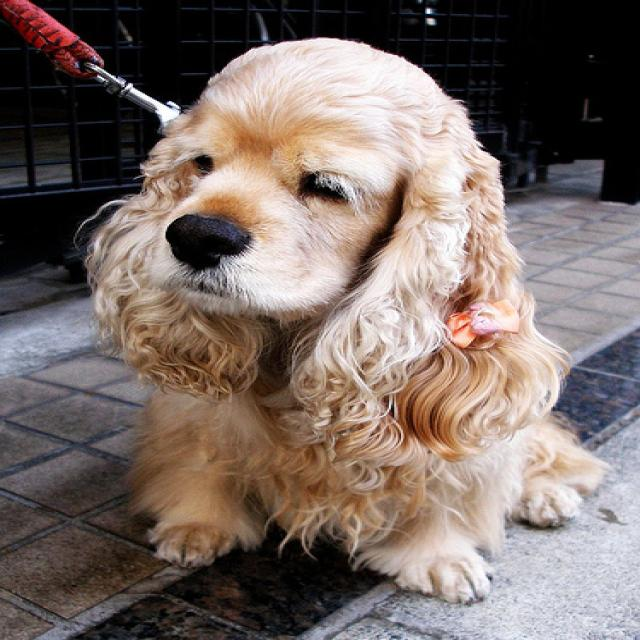dog-english_cocker_spaniel: (72, 24, 613, 604)
